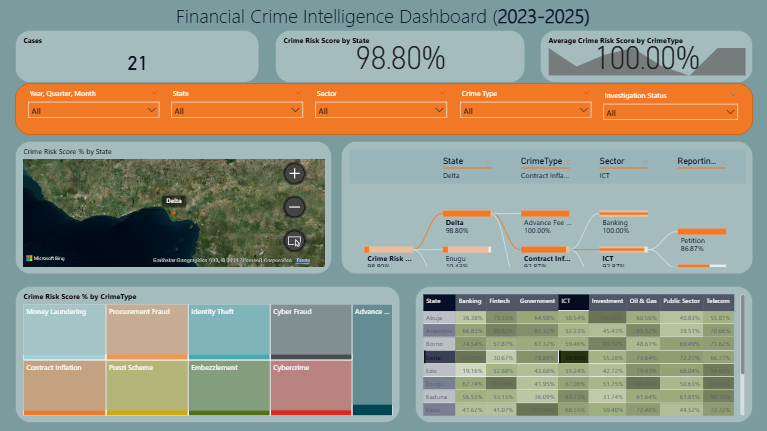

What the dashboard file says about the page in this screenshot:
{"tool":"powerbi","page":{"name":"Risk Intelligence Dashboard","canvas":[1280,720],"ordinal":5},"visuals":[{"type":"shape","box":[26.7,140,1230,86.7],"z":0},{"type":"textbox","box":[0,0,1280,55],"z":1000},{"type":"group","id":"g1","title":"Group 2","box":[38.3,143.3,1203.3,83.3],"z":2000},{"type":"slicer","fields":{"Values":["EFCC_Data.CrimeType"]},"box":[757.5,143.3,238.8,80.8],"z":2000,"group":"g1"},{"type":"kpi","title":"Crime Risk Score by State","fields":{"Indicator":["_Measures.Crime Risk Score"],"TrendLine":["EFCC_Data.State"]},"box":[460,51.7,416.7,88.3],"z":3000},{"type":"slicer","fields":{"Values":["EFCC_Data.ReportDate.Variation.Date Hierarchy.Year","EFCC_Data.ReportDate.Variation.Date Hierarchy.Quarter","EFCC_Data.ReportDate.Variation.Date Hierarchy.Month"]},"box":[38.3,143.3,238.8,80.8],"z":3000,"group":"g1"},{"type":"kpi","fields":{"Indicator":["_Measures.Average Crime Risk Score"],"TrendLine":["EFCC_Data.CrimeType"]},"box":[901.7,51.7,355,88.3],"z":4000},{"type":"slicer","fields":{"Values":["EFCC_Data.Sector"]},"box":[517.3,143.3,240.2,80.8],"z":5000,"group":"g1"},{"type":"pivotTable","fields":{"Rows":["EFCC_Data.State"],"Columns":["EFCC_Data.Sector"],"Values":["_Measures.Crime Risk Score %"]},"box":[693.3,478.3,563.3,228.3],"z":5000},{"type":"slicer","fields":{"Values":["EFCC_Data.State"]},"box":[277.1,143.3,240.2,80.8],"z":6000,"group":"g1"},{"type":"decompositionTreeVisual","fields":{"Analyze":["_Measures.Crime Risk Score %"],"ExplainBy":["EFCC_Data.State","EFCC_Data.CrimeType","EFCC_Data.Sector","EFCC_Data.ReportingChannel"]},"box":[570,236.7,686.7,221.7],"z":6000},{"type":"treemap","fields":{"Group":["EFCC_Data.CrimeType"],"Values":["_Measures.Crime Risk Score %"]},"box":[26.7,478.3,641.7,228.3],"z":7000},{"type":"map","fields":{"Category":["EFCC_Data.State"],"Size":["_Measures.Crime Risk Score %"]},"box":[26.7,236.7,528.3,221.7],"z":8000},{"type":"card","title":"Cases","fields":{"Values":["_Measures.Total Cases"]},"box":[26.7,51.7,406.7,88.3],"z":9000},{"type":"slicer","fields":{"Values":["EFCC_Data.InvestigationStatus"]},"box":[996.3,145.8,245.4,80.8],"z":13001,"group":"g1"}]}

Visuals, with their boxes in screenshot pixels (x1, y1, x2, y2), scaled from the page's 1280x720 canvas onto the 767x431 screenshot:
shape: BBox(16, 84, 753, 136)
textbox: BBox(0, 0, 766, 33)
"Group 2" group: BBox(23, 86, 744, 136)
slicer - EFCC_Data.CrimeType: BBox(454, 86, 597, 134)
"Crime Risk Score by State" kpi: BBox(276, 31, 525, 84)
slicer - EFCC_Data.ReportDate.Variation.Date Hierarchy.Year x EFCC_Data.ReportDate.Variation.Date Hierarchy.Quarter: BBox(23, 86, 166, 134)
kpi - _Measures.Average Crime Risk Score x EFCC_Data.CrimeType: BBox(540, 31, 753, 84)
slicer - EFCC_Data.Sector: BBox(310, 86, 454, 134)
pivotTable - EFCC_Data.State x EFCC_Data.Sector: BBox(415, 286, 753, 423)
slicer - EFCC_Data.State: BBox(166, 86, 310, 134)
decompositionTreeVisual - _Measures.Crime Risk Score % x EFCC_Data.State: BBox(342, 142, 753, 274)
treemap - EFCC_Data.CrimeType x _Measures.Crime Risk Score %: BBox(16, 286, 401, 423)
map - EFCC_Data.State x _Measures.Crime Risk Score %: BBox(16, 142, 333, 274)
"Cases" card: BBox(16, 31, 260, 84)
slicer - EFCC_Data.InvestigationStatus: BBox(597, 87, 744, 136)
